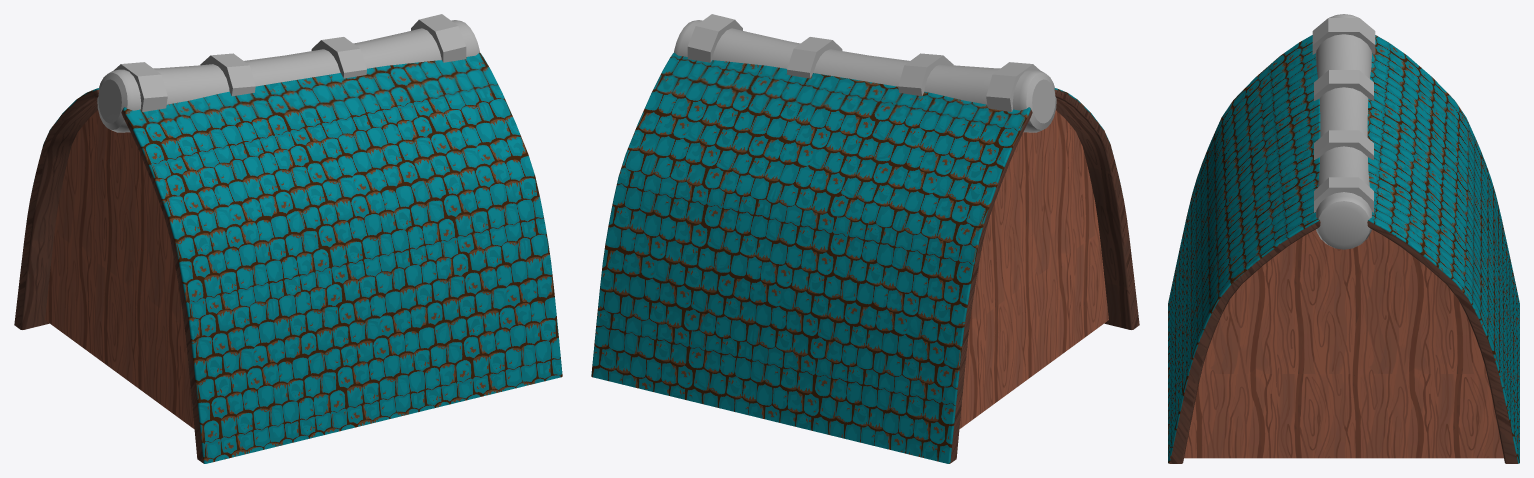
The model's file is casa sin puerta.fbx.
3 views of the same model, side by side, from view 1: azimuth 30°, elevation 25°; view 2: azimuth 150°, elevation 25°; view 3: azimuth 270°, elevation 25° (orthographic). The views are drawn at different scales.
Parts seen in each view (by area): view 1: polySurface9, polySurface29, pCube5; view 2: polySurface9, polySurface29, pCube5; view 3: polySurface9, polySurface15, pCube5.
Part boxes in pixels (x1,y1,x2,y2): polySurface9: (14,52,562,463); polySurface29: (45,110,194,429); pCube5: (97,14,479,132); polySurface9: (591,52,1139,463); polySurface29: (959,110,1108,429); pCube5: (674,14,1056,132); polySurface9: (1168,35,1519,463); polySurface15: (1184,229,1503,458); pCube5: (1312,14,1375,249).
Size of the model in its own units: 9.53 by 8.01 by 8.69.
